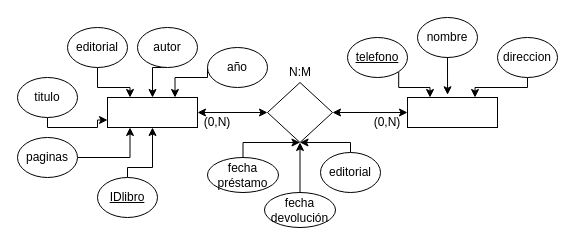
The diagram is 575 pixels wide and 245 high, and some of its shapes have lost their labels. The centre of each missing label's shape, as x and y in pixels:
"libro" belongs at [152,112].
"prestamo" belongs at [299,112].
"usuarios" belongs at [452,112].
